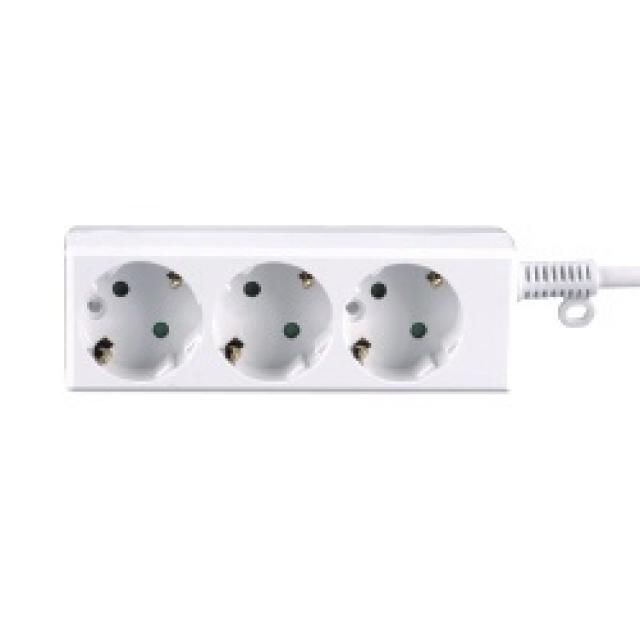typeb: (47, 200, 518, 431)
